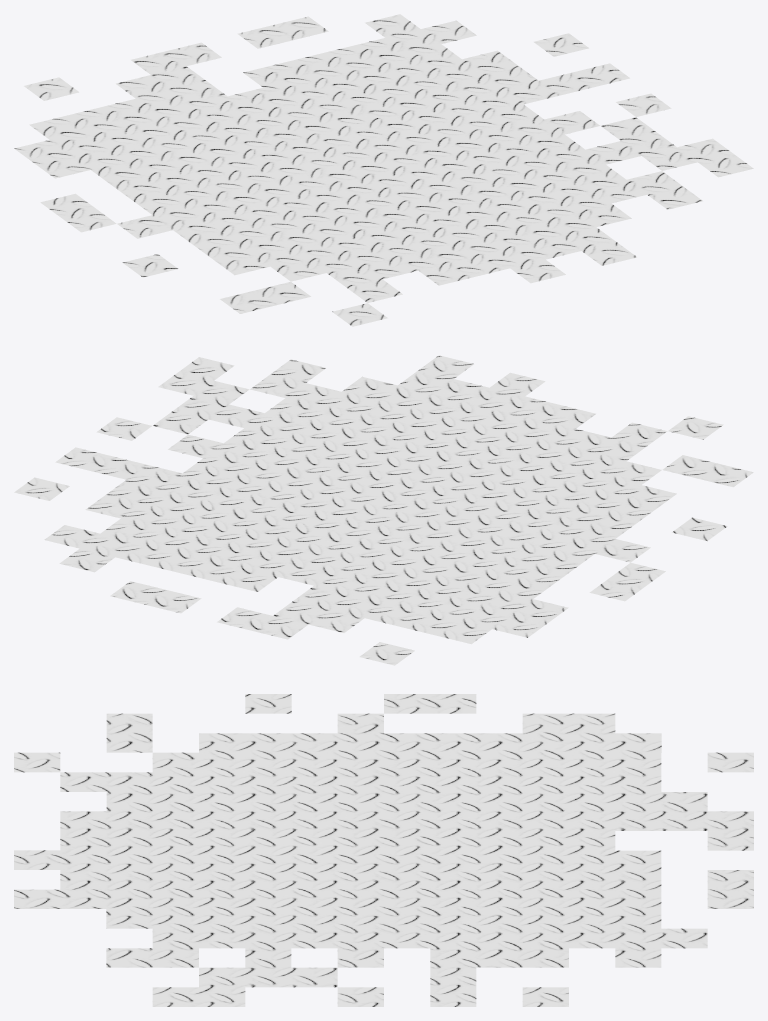
The model's file is Tutorial Loot Base.fbx.
3 views of the same model, one above another, from view 1: azimuth 30°, elevation 25°; view 2: azimuth 150°, elevation 25°; view 3: azimuth 270°, elevation 25° (orthographic). The views are drawn at different scales.
Visible parts, largest first — view 1: Tutorial Loot Base; view 2: Tutorial Loot Base; view 3: Tutorial Loot Base.
Boxes of the visible parts, x1,y1,x2,y2 form: Tutorial Loot Base: (14,14,753,326); Tutorial Loot Base: (14,355,753,665); Tutorial Loot Base: (14,694,753,1006).
Bounding box in the file's own units: 8 × 8 × 0.
